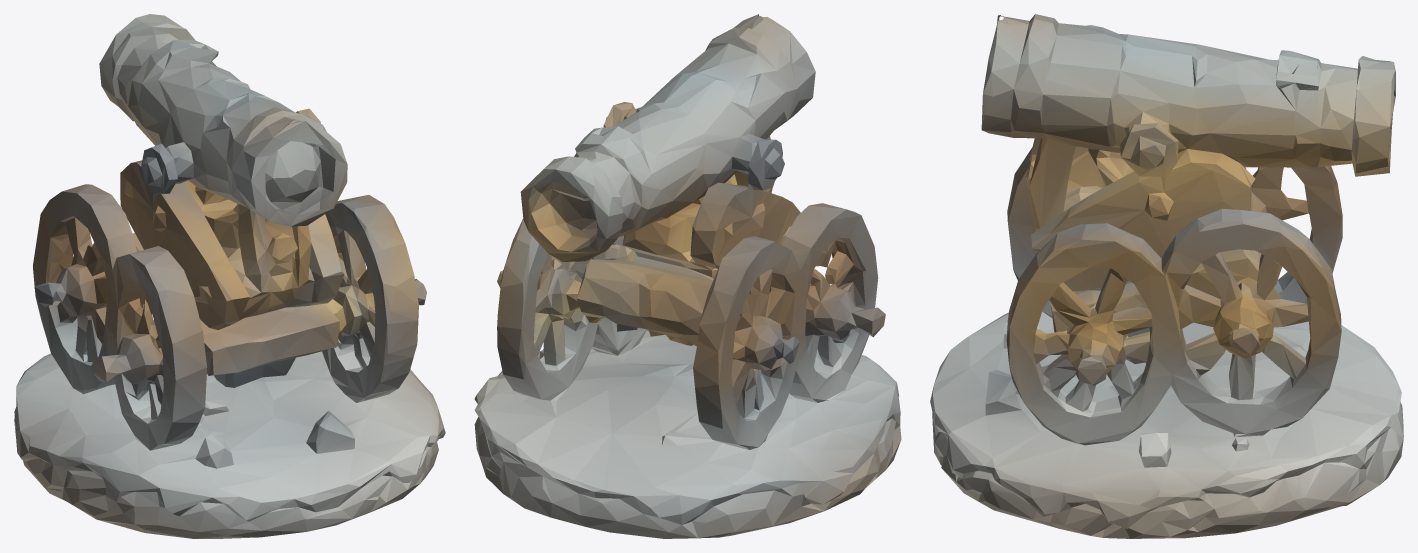
File: topkulesi.glb
3 renders of one model, left to right at view 1: azimuth 30°, elevation 25°; view 2: azimuth 150°, elevation 25°; view 3: azimuth 270°, elevation 25°, orthographic. The views are drawn at different scales.
Parts seen in each view (by area): view 1: geometry_0; view 2: geometry_0; view 3: geometry_0.
Part boxes in pixels (left/top/right/bottom): geometry_0: left=14, top=14, right=445, bottom=538; geometry_0: left=474, top=14, right=901, bottom=538; geometry_0: left=930, top=14, right=1403, bottom=538.
Bounding box in the file's own units: 0.9916 × 1 × 0.996.
